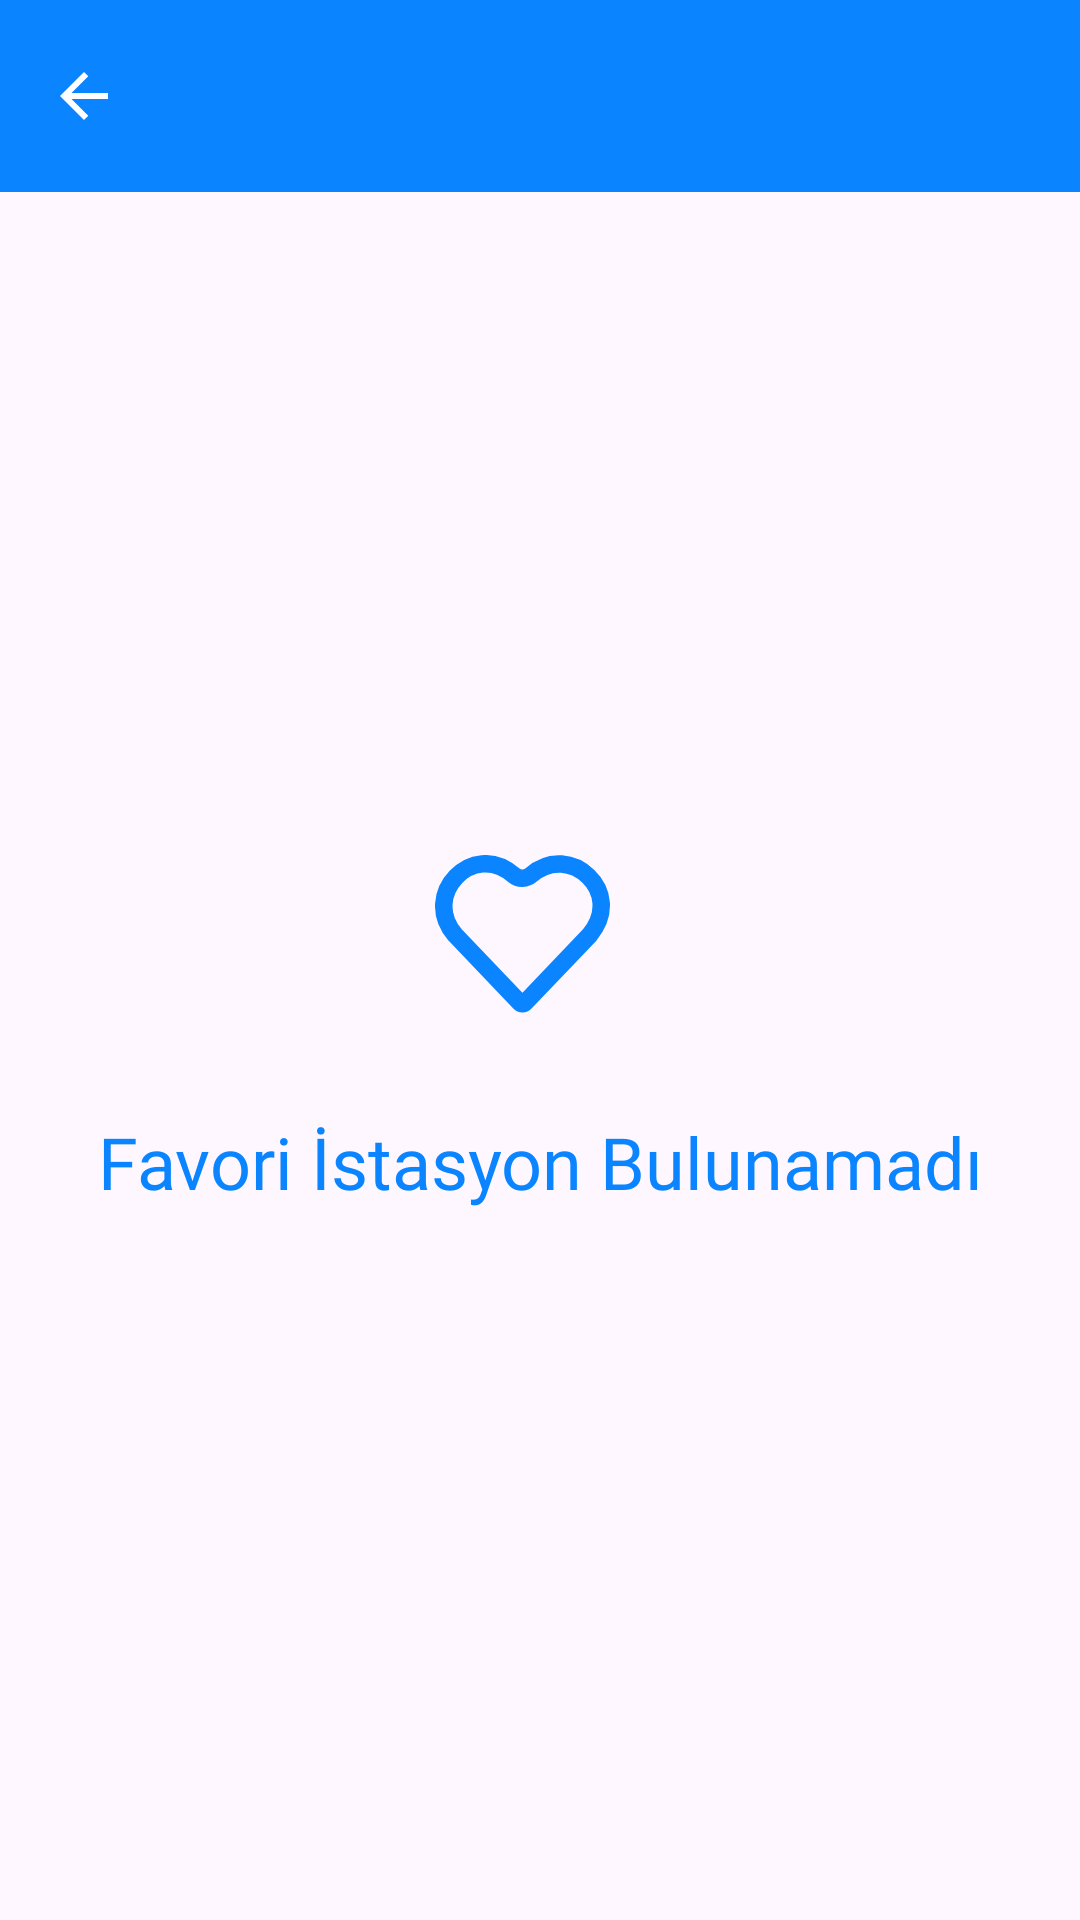

Icon click points for this 1080w x 1920h phone screenshot, format (x=x, y=y):
favorite: (x=522, y=934)
